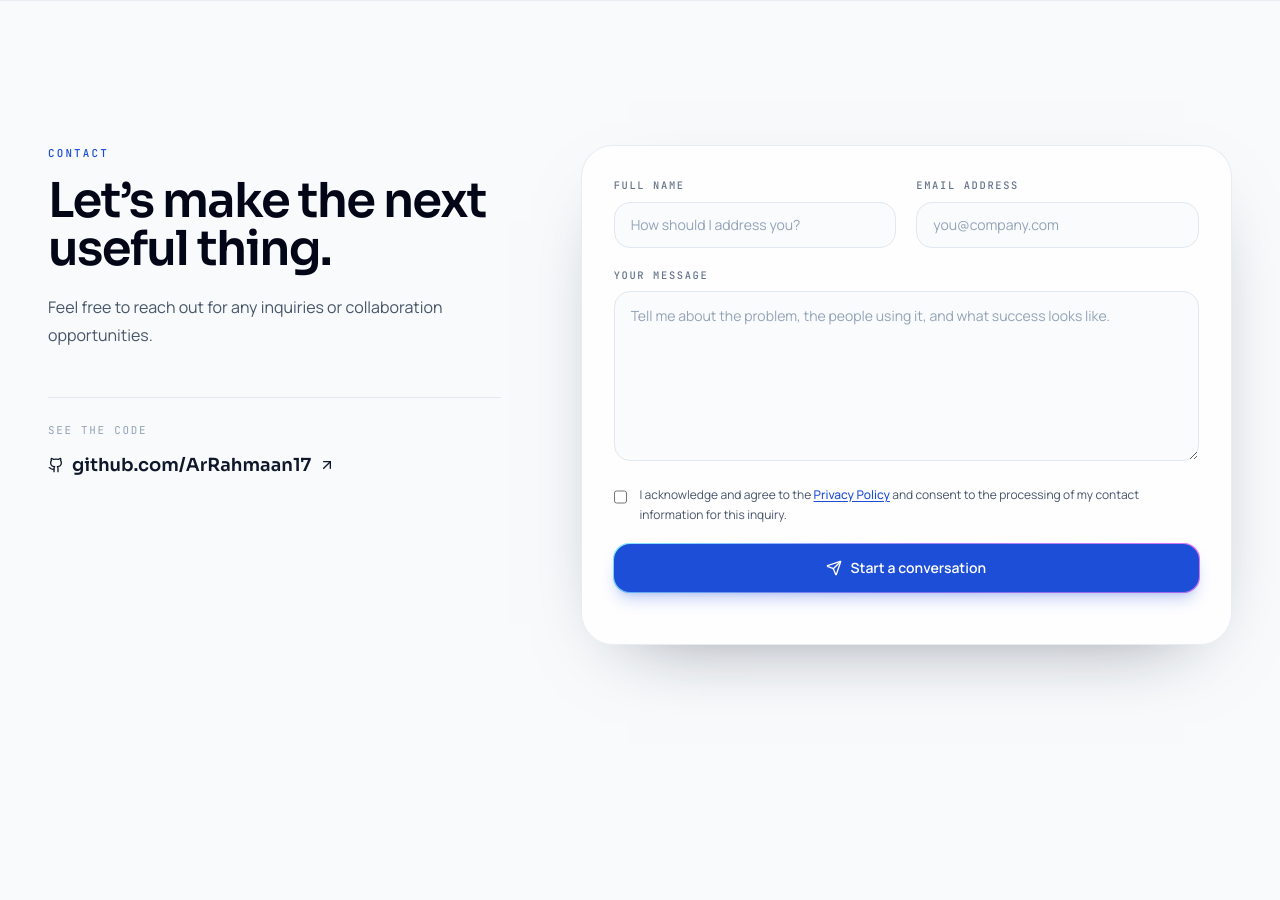
Test: Contact Form Accessibility & Consent › submits successfully when consent is checked and fields are valid
Step 1. Type "Jane Smith" into the field labelled "Full Name" → point(755, 225), box [614, 202, 896, 248]
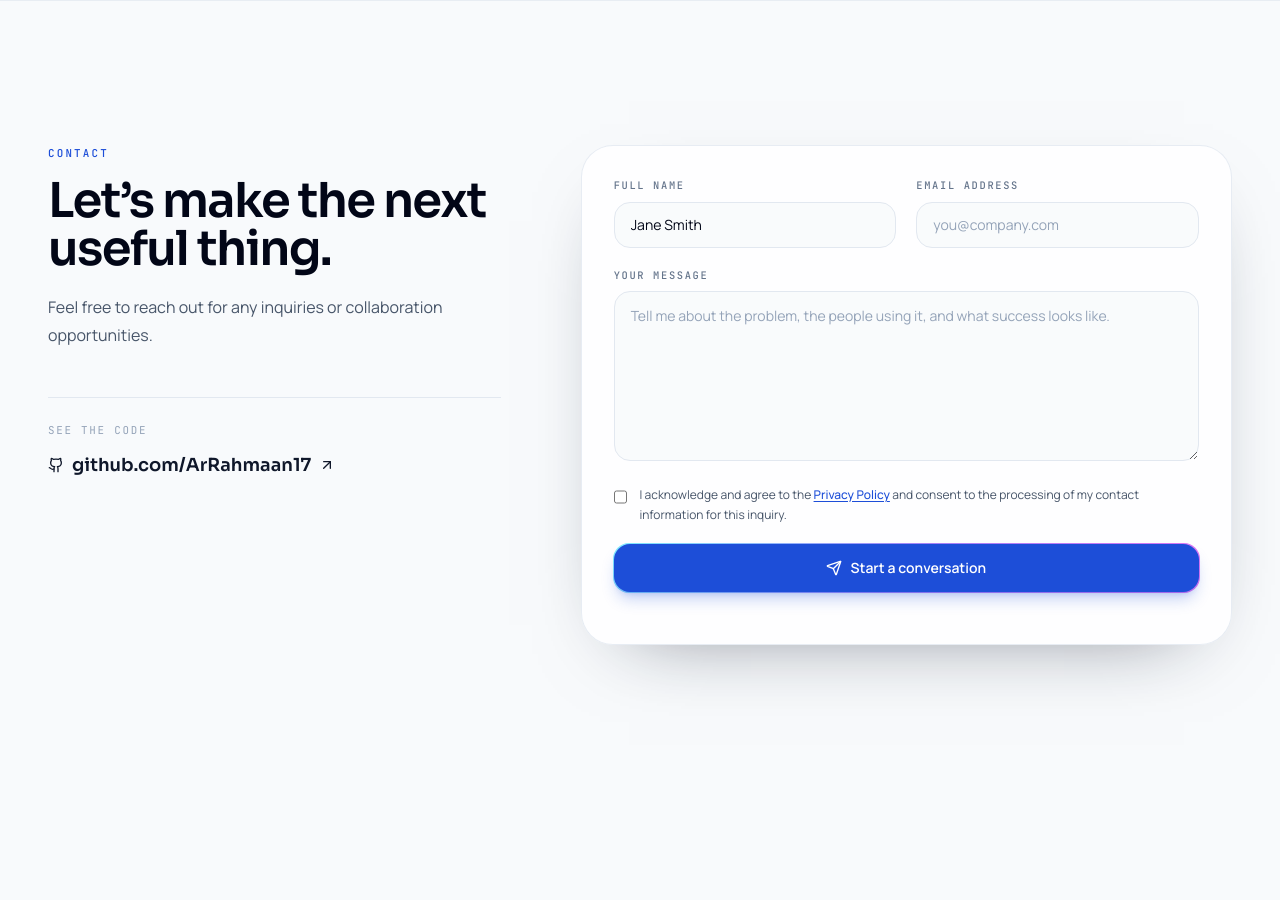
Step 2. Type "jane@example.com" into the field labelled "Email Address" → point(1058, 225), box [916, 202, 1199, 248]
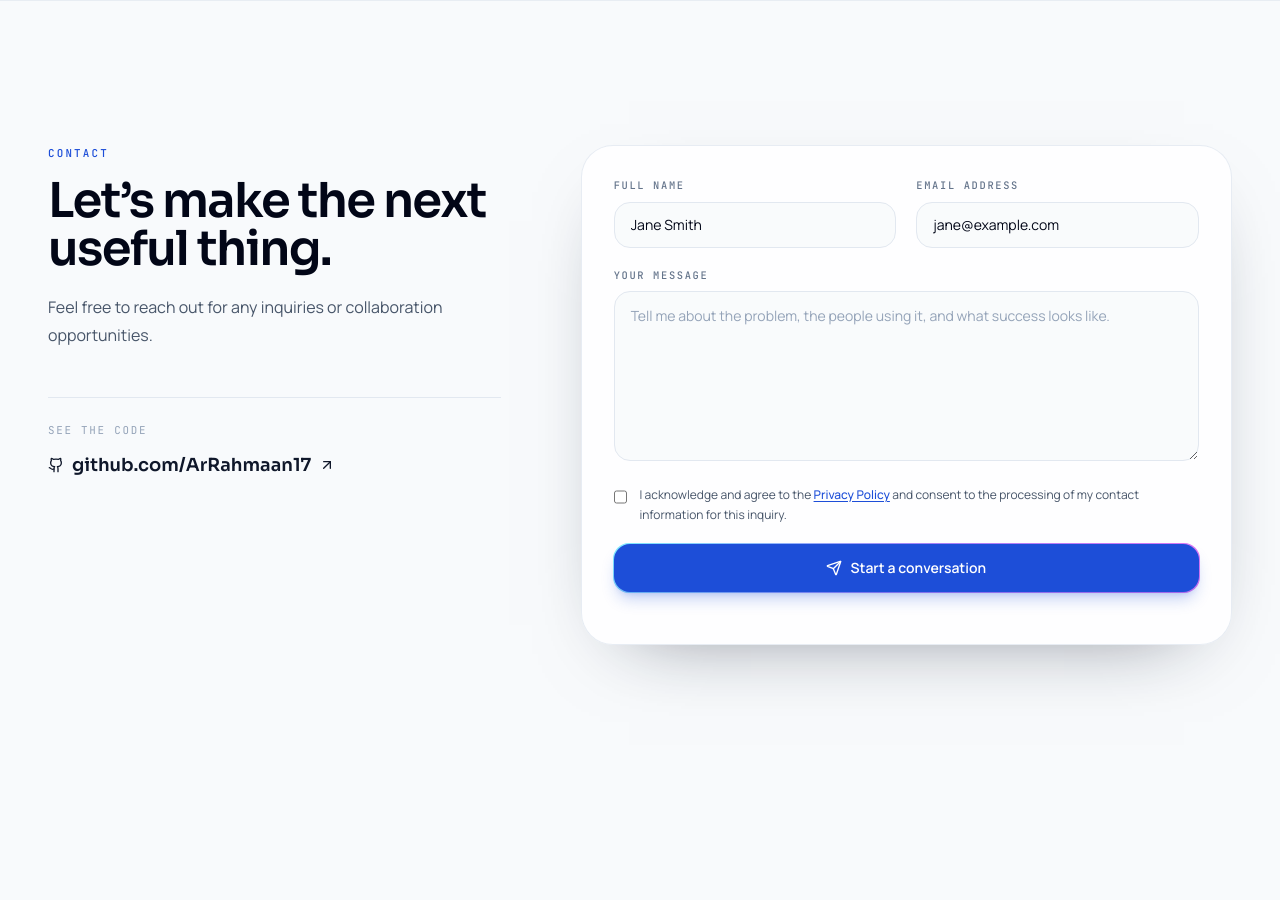
Step 3. Replace the text in the text box labelled "Your Message" with "Inquiring about engineering services for a scalable web backend." → point(906, 376), box [614, 291, 1199, 461]
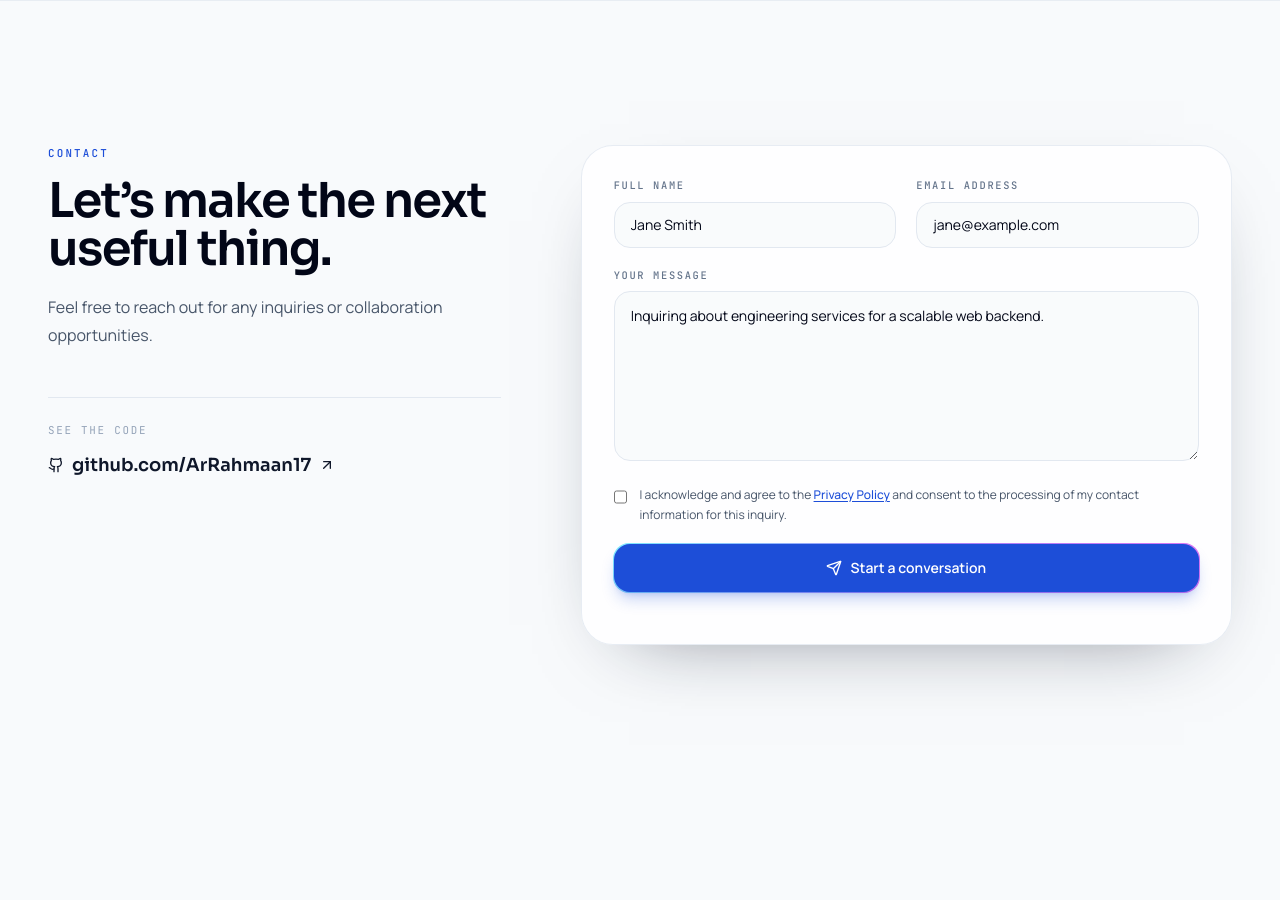
Step 4. Click the checkbox → point(620, 497), box [614, 489, 627, 505]
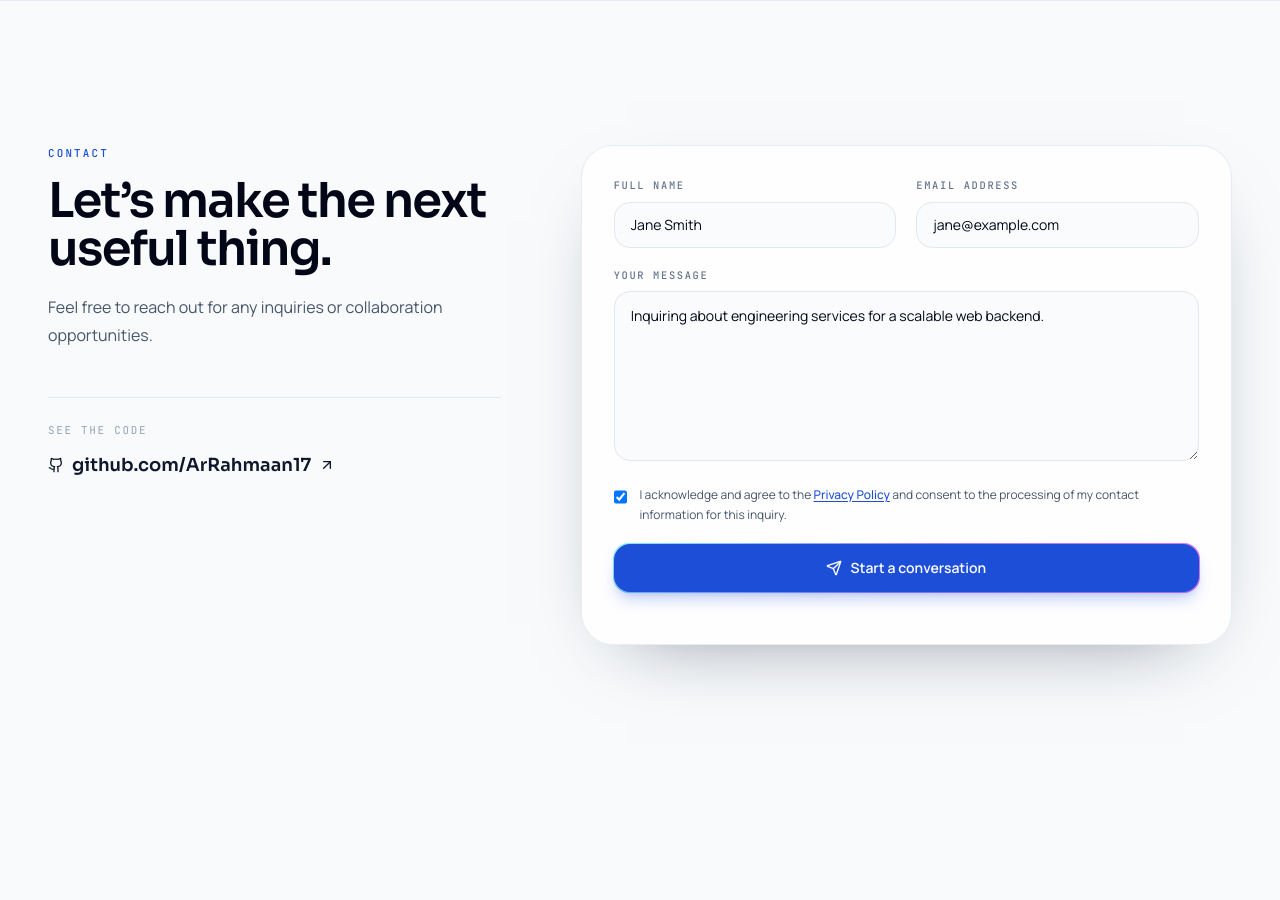
Result: the checkbox is checked at [614, 489, 627, 505]
Step 5. Click the button "Start a conversation" → point(906, 568), box [614, 544, 1199, 592]
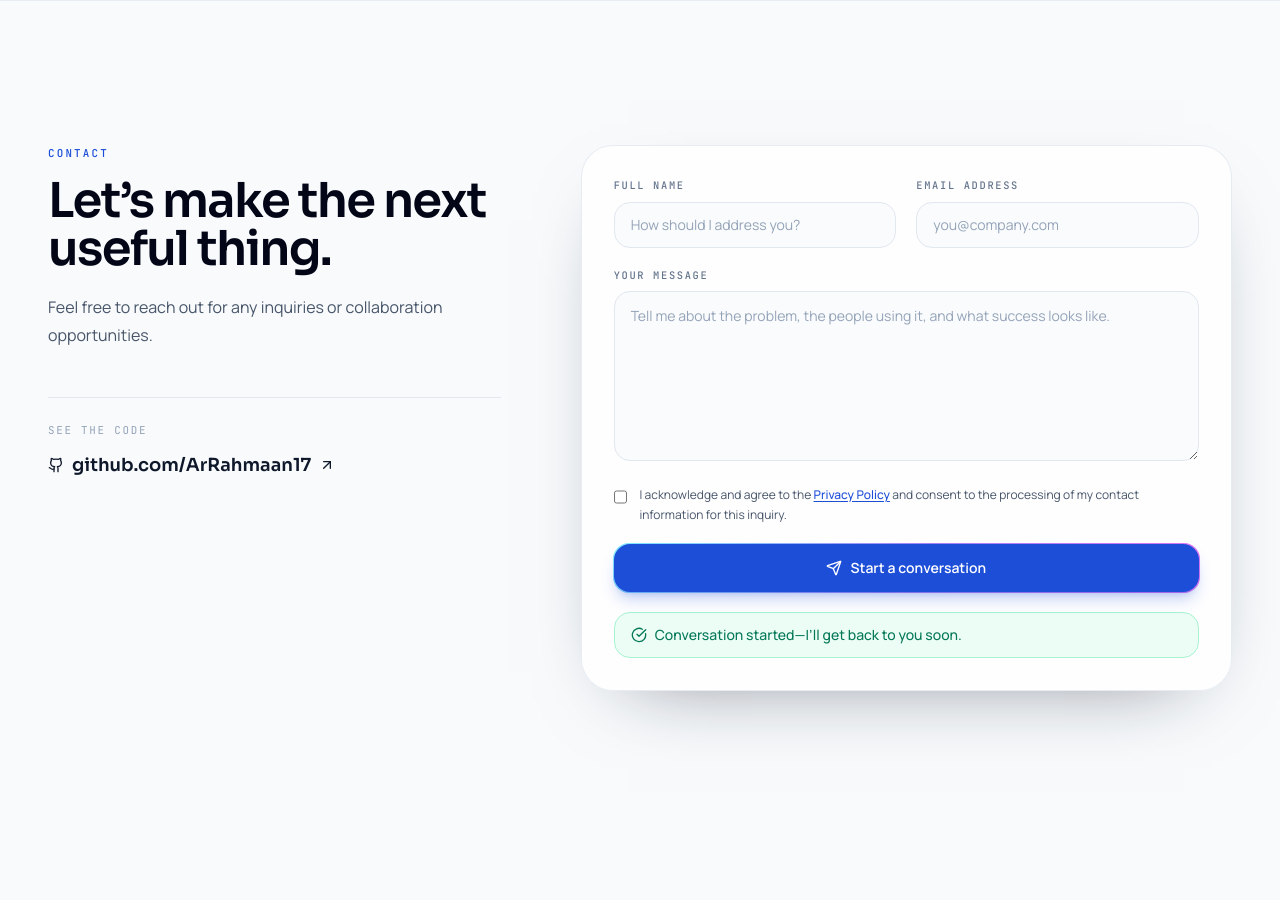
Result: the text "Conversation started—I’ll get back to you soon." is shown at [614, 612, 1199, 658]
